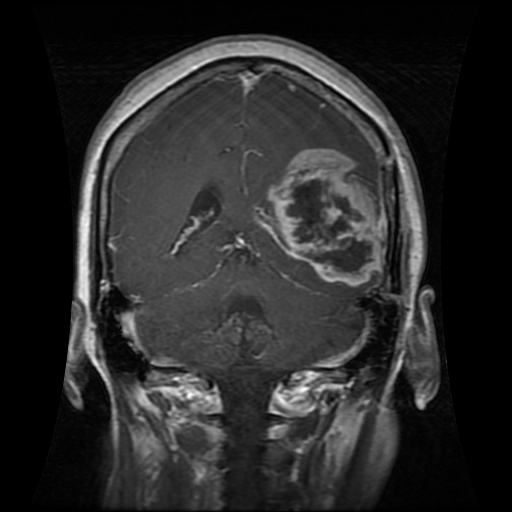glioma: (250, 143, 391, 287)
